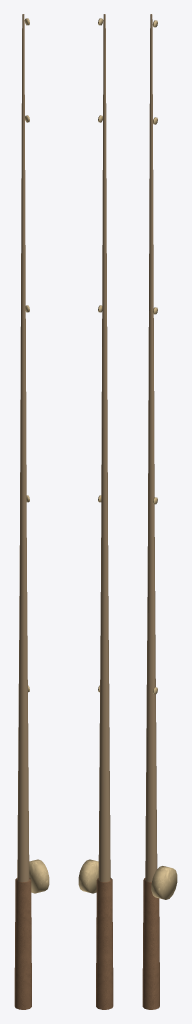
File: fishing_rod.glb
3 views of the same model, side by side, from view 1: azimuth 30°, elevation 25°; view 2: azimuth 150°, elevation 25°; view 3: azimuth 330°, elevation 25° (orthographic).
Parts seen in each view (by area): view 1: fishing_rod; view 2: fishing_rod; view 3: fishing_rod.
Boxes of the visible parts, bbox=[...] form: fishing_rod: bbox=[14, 14, 49, 1009]; fishing_rod: bbox=[78, 14, 113, 1009]; fishing_rod: bbox=[142, 14, 177, 1009].
Bounding box in the file's own units: 0.064 × 2.35 × 0.0682.
Materials: 3 (2 with a texture image).
